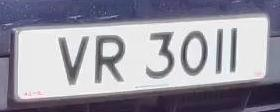0: (177, 22, 211, 84)
1: (209, 21, 229, 83), (226, 21, 241, 79)
3: (141, 27, 174, 83)
R: (88, 31, 134, 89)
V: (51, 31, 94, 90)
